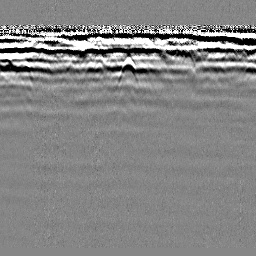cavity: (114, 56, 140, 86)
